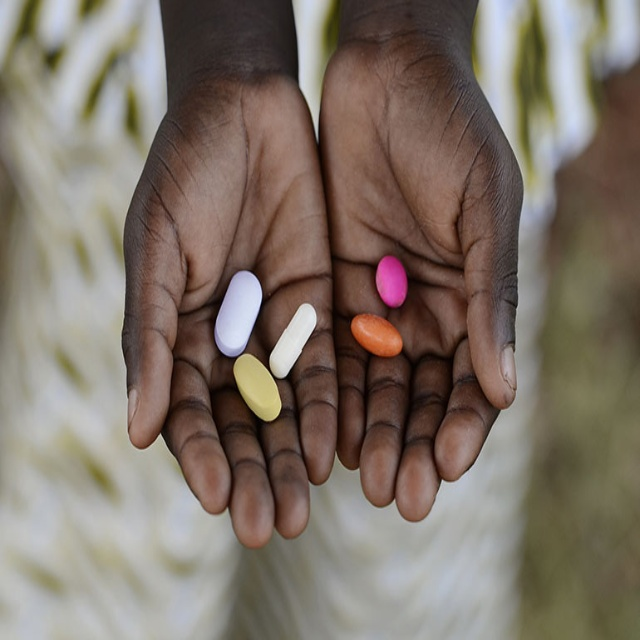pill: (258, 215, 314, 285), (325, 243, 381, 304), (282, 282, 336, 340), (417, 248, 488, 286), (453, 204, 491, 247)
